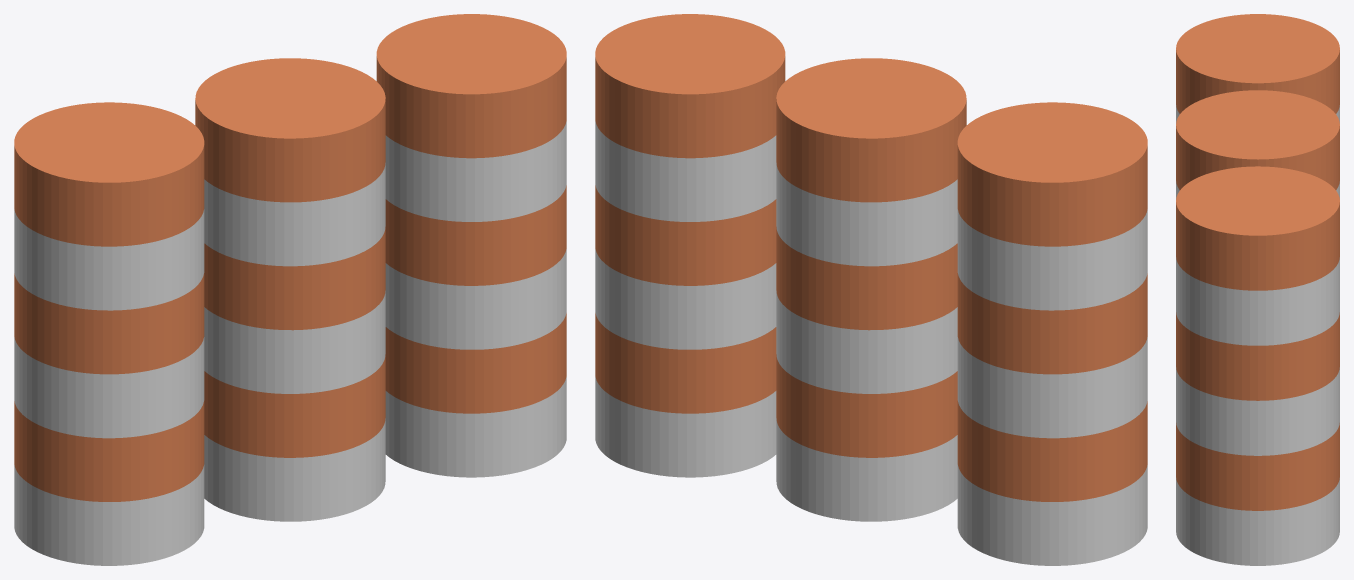
Rendered from Traffic-Cones_Triple.dae.
3 views of the same model, side by side, from view 1: azimuth 30°, elevation 25°; view 2: azimuth 150°, elevation 25°; view 3: azimuth 270°, elevation 25° (orthographic). The views are drawn at different scales.
Visible parts, largest first — view 1: Cylinder; view 2: Cylinder; view 3: Cylinder.
Part boxes in pixels (x1,y1,x2,y2): Cylinder: [14, 14, 566, 565]; Cylinder: [595, 14, 1147, 565]; Cylinder: [1176, 14, 1339, 565].
Size of the model in its own units: 2.88 by 0.8999 by 2.
